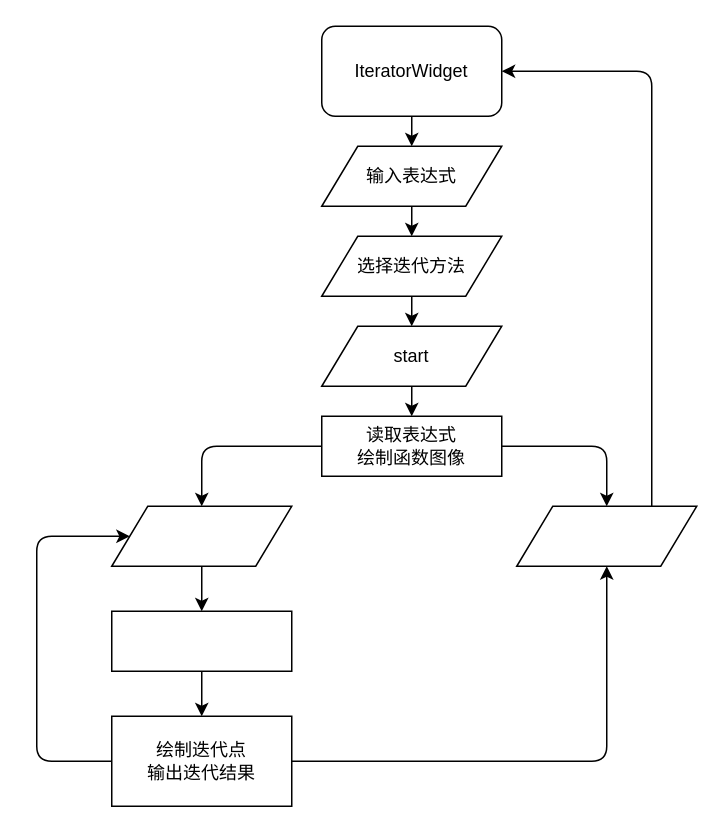
Image size: 723x833. Some labels were removed from this diagram. The shapes that lost their labels are listed below. From the top down, each one's centre as x and y in pixels, then its label:
the point at 201,535: next
the point at 606,535: exit
the point at 201,640: 迭代
